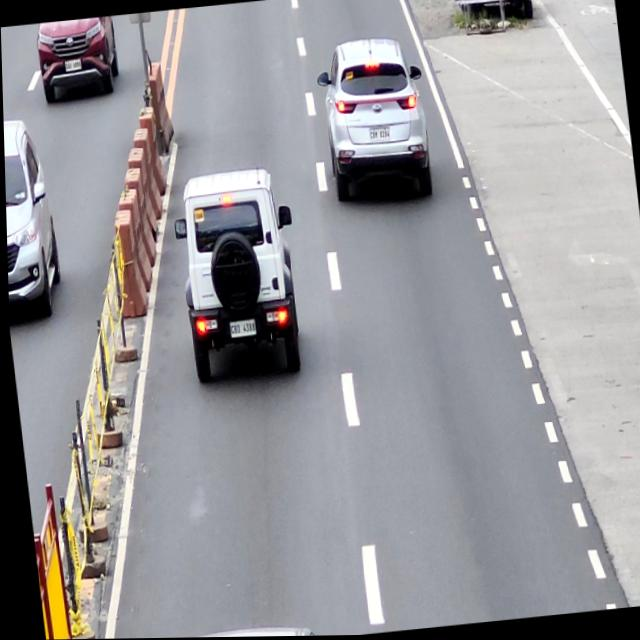Car: (169, 165, 307, 384), (312, 36, 434, 206)
License-Plate: (226, 319, 253, 338), (368, 128, 390, 143)
